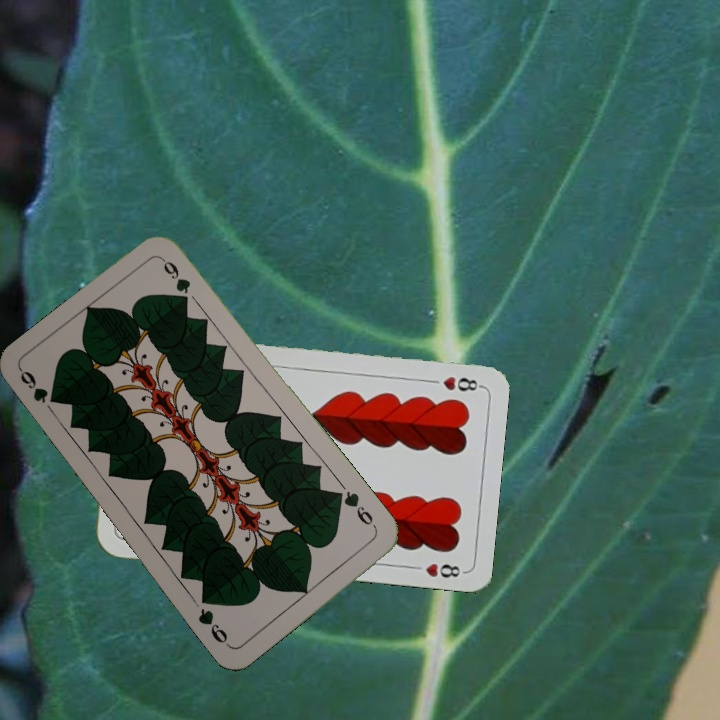G9: (332, 486, 380, 533), (15, 366, 50, 406)
H8: (438, 372, 484, 394)
